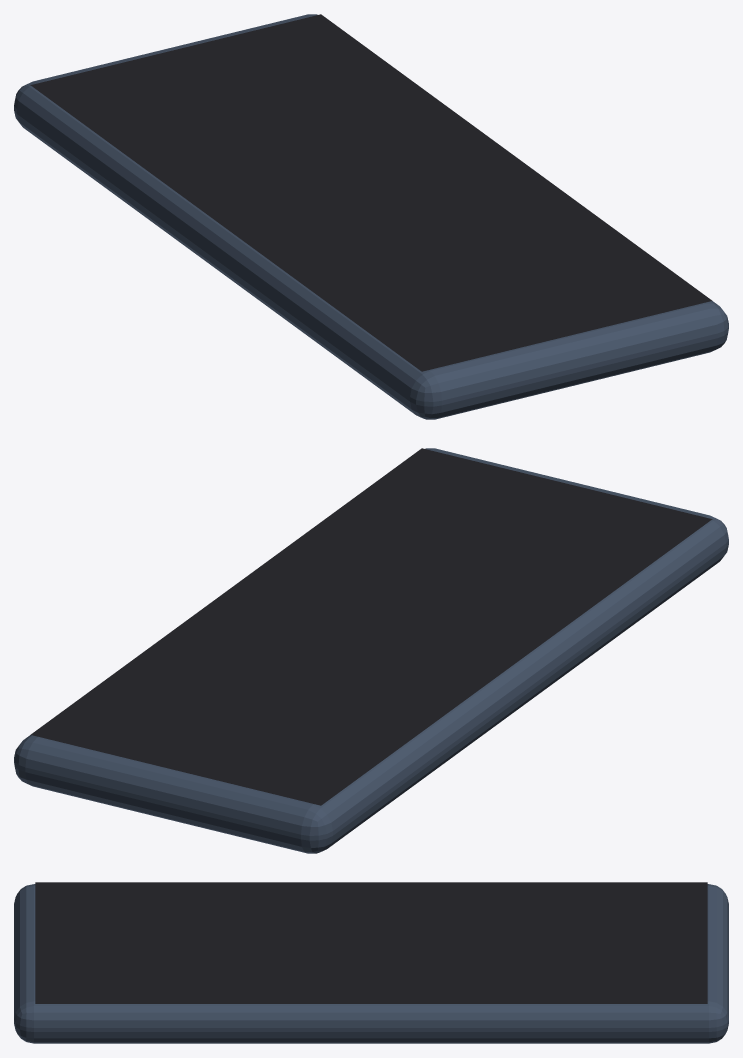
The model's file is Phone_572.glb.
The picture shows the model from 3 angles, top to bottom: view 1: azimuth 30°, elevation 25°; view 2: azimuth 150°, elevation 25°; view 3: azimuth 270°, elevation 25°; orthographic projection. The views are drawn at different scales.
Parts seen in each view (by area): view 1: Phone_Screen, Phone_Body; view 2: Phone_Screen, Phone_Body; view 3: Phone_Screen, Phone_Body.
Boxes of the visible parts, bbox=[...] form: Phone_Screen: bbox=[30, 14, 712, 371]; Phone_Body: bbox=[14, 14, 728, 419]; Phone_Screen: bbox=[30, 448, 712, 805]; Phone_Body: bbox=[14, 448, 728, 853]; Phone_Screen: bbox=[35, 882, 707, 1003]; Phone_Body: bbox=[14, 884, 728, 1043].
Size of the model in its own units: 0.0703 by 0.0101 by 0.1605.
